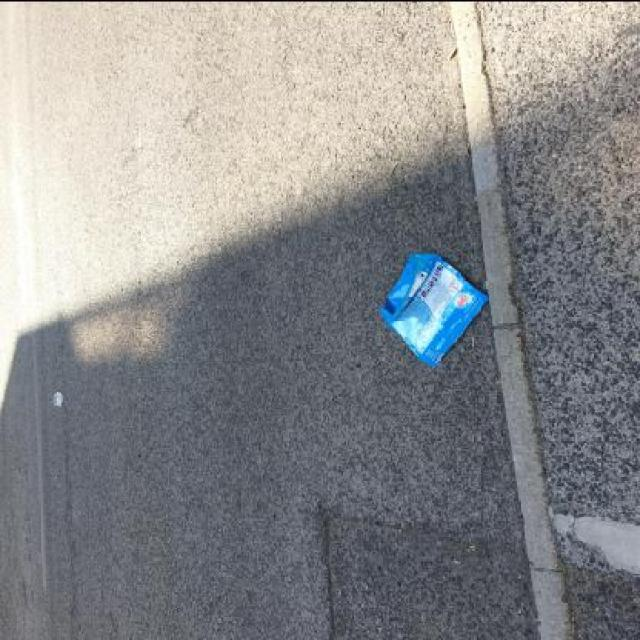plastic: (378, 251, 489, 366), (52, 391, 63, 406)
